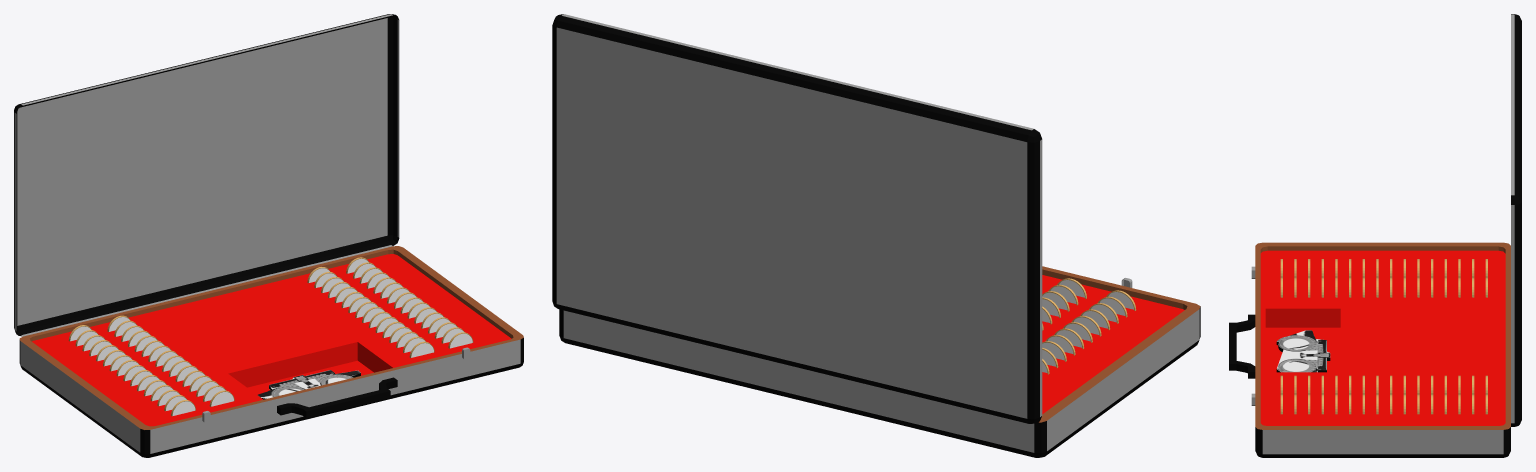
The picture shows the model from 3 angles, left to right: view 1: azimuth 30°, elevation 25°; view 2: azimuth 150°, elevation 25°; view 3: azimuth 270°, elevation 25°; orthographic projection. The views are drawn at different scales.
Parts seen in each view (by area): view 1: U-17; view 2: U-17; view 3: U-17.
Boxes of the visible parts, x1,y1,x2,y2 form: U-17: (14,14,523,457); U-17: (552,14,1200,457); U-17: (1229,14,1521,457).
Bounding box in the file's own units: 59 × 38.54 × 38.96.
7 materials, 1 textured.
